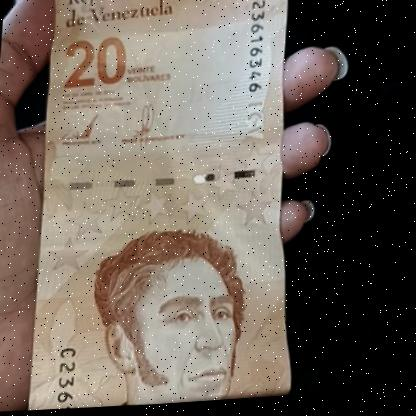twenty-front-vef: (28, 0, 321, 414)
